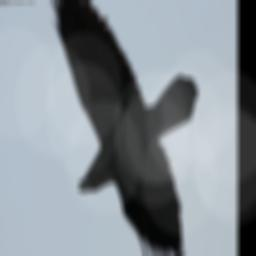Crow: (47, 0, 199, 256)
